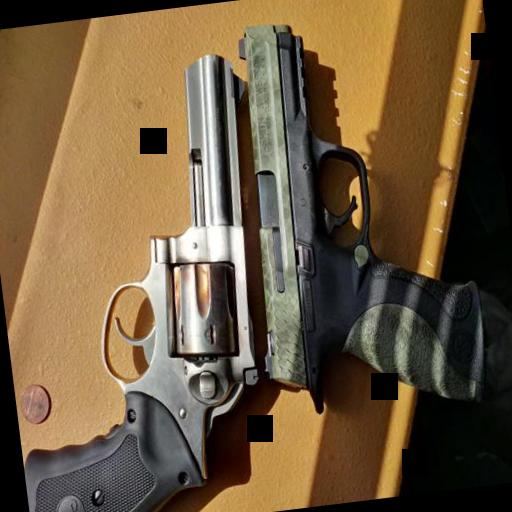Handgun: (0, 52, 294, 512), (222, 0, 494, 424)
